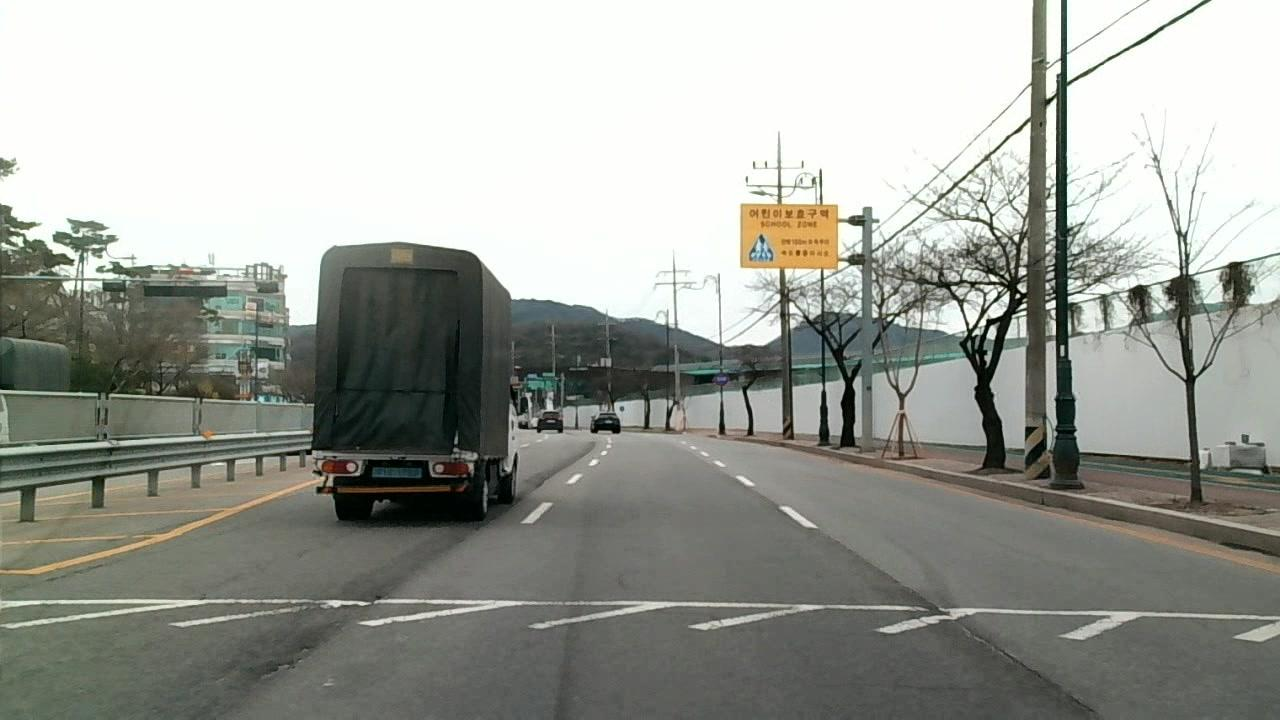vcrack: (945, 613, 1092, 710), (825, 529, 927, 599), (246, 629, 335, 687), (451, 505, 518, 551)
